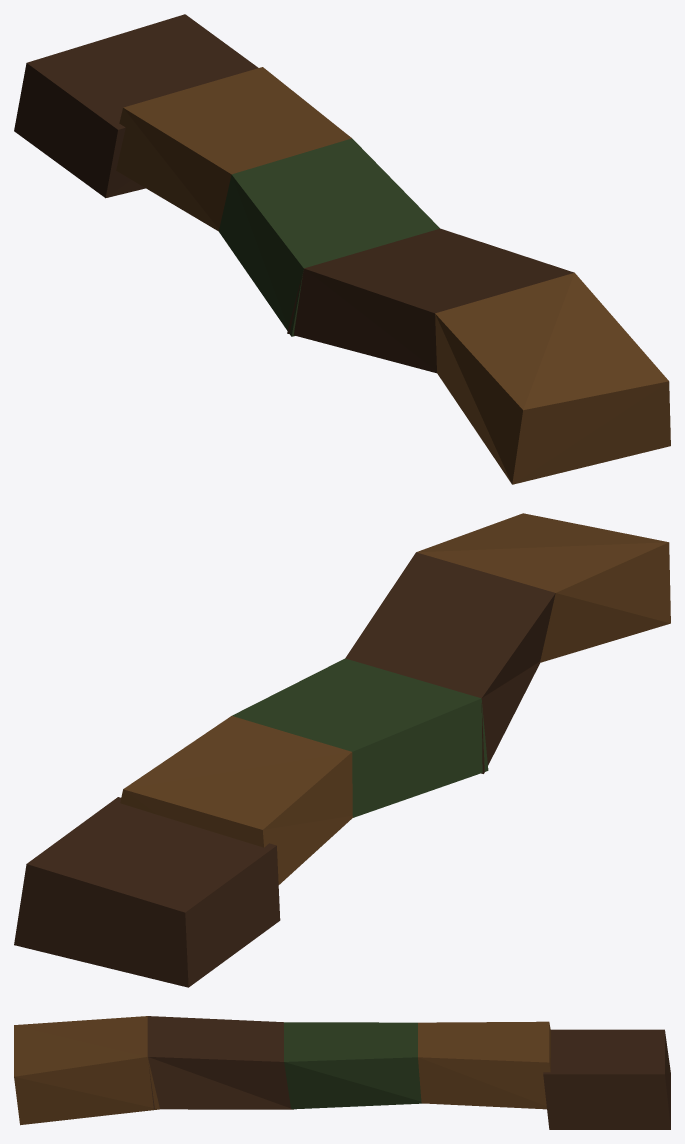
File: raiz_puente.obj
3 views of the same model, one above another, from view 1: azimuth 30°, elevation 25°; view 2: azimuth 150°, elevation 25°; view 3: azimuth 270°, elevation 25° (orthographic). The views are drawn at different scales.
Parts seen in each view (by area): view 1: tramo_4, tramo_2, tramo_3, tramo_0, tramo_1; view 2: tramo_0, tramo_3, tramo_1, tramo_2, tramo_4; view 3: tramo_4, tramo_3, tramo_0, tramo_2, tramo_1.
Boxes of the visible parts, left/top/right/bottom form: tramo_4: left=435, top=272, right=670, bottom=484; tramo_2: left=219, top=138, right=439, bottom=336; tramo_3: left=287, top=228, right=574, bottom=373; tramo_0: left=14, top=14, right=258, bottom=198; tramo_1: left=116, top=67, right=351, bottom=231; tramo_0: left=14, top=797, right=280, bottom=987; tramo_3: left=345, top=552, right=555, bottom=773; tramo_1: left=120, top=716, right=352, bottom=884; tramo_2: left=232, top=658, right=488, bottom=817; tramo_4: left=416, top=513, right=670, bottom=662; tramo_4: left=14, top=1016, right=159, bottom=1125; tramo_3: left=147, top=1016, right=293, bottom=1109; tramo_0: left=543, top=1029, right=670, bottom=1129; tramo_2: left=284, top=1022, right=421, bottom=1109; tramo_1: left=418, top=1021, right=550, bottom=1109.
Bounding box in the file's own units: 1.2 × 0.64 × 5.4.
